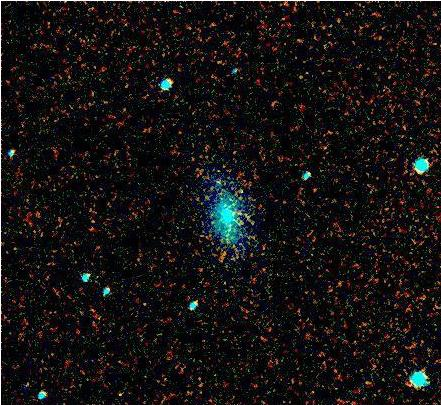star: (222, 179, 252, 209)
